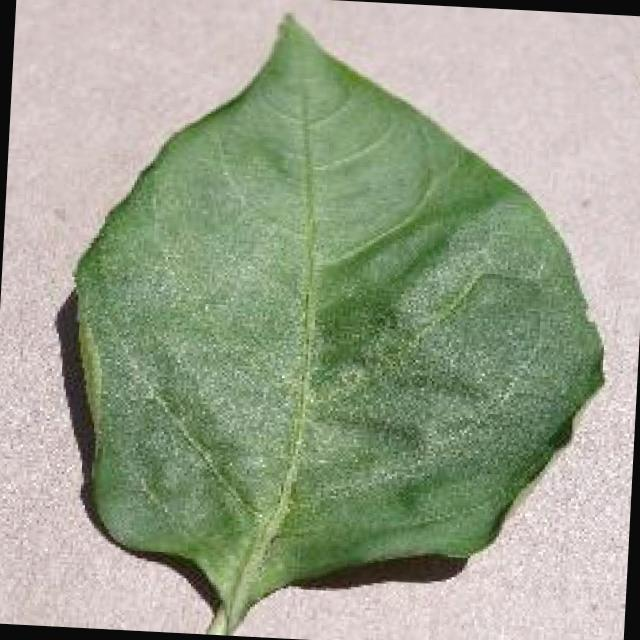Leaf: (150, 58, 473, 301)
